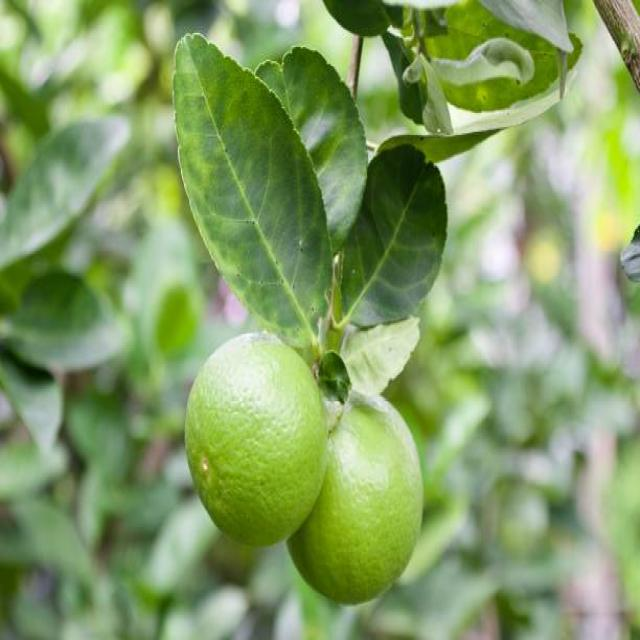Unripe: (288, 361, 422, 607), (182, 328, 328, 544)
